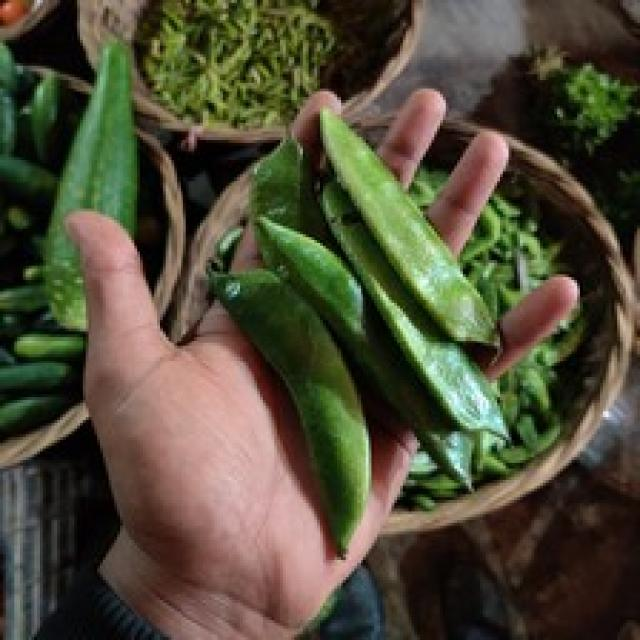Bean: (203, 95, 577, 554)
